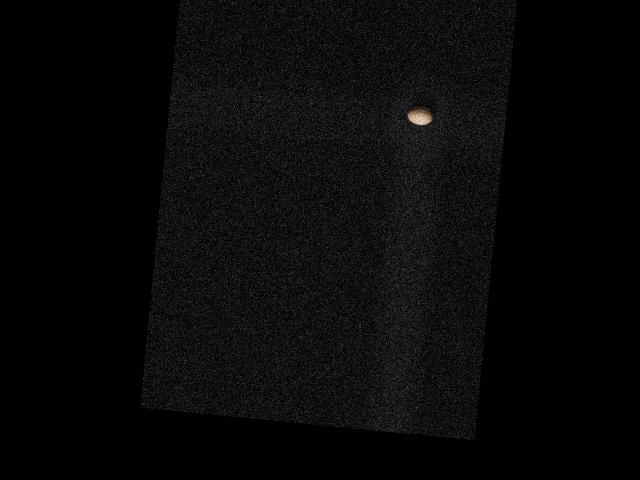egg: (406, 105, 434, 126)
